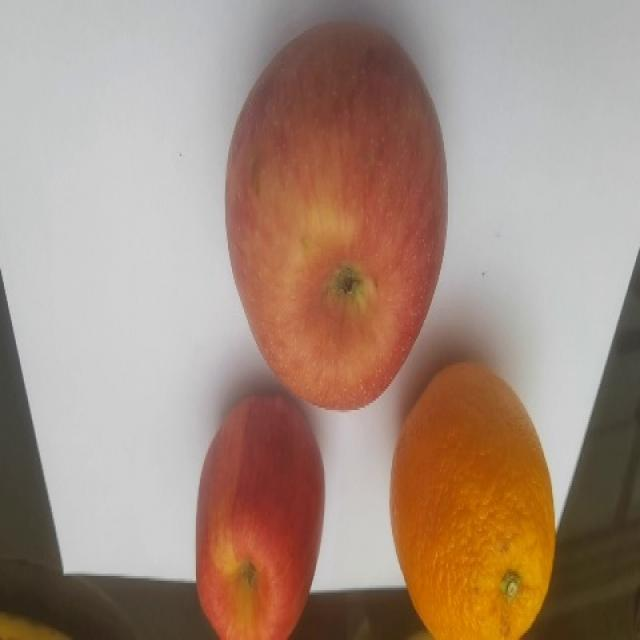Apple: (224, 19, 448, 411), (194, 392, 325, 639)
Orange: (388, 360, 557, 639)
